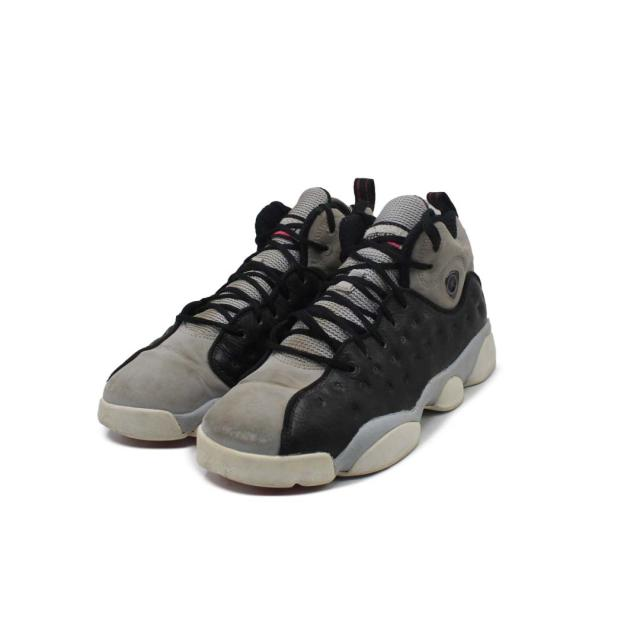midsole: (193, 315, 499, 490), (96, 399, 196, 447)
uppersole: (198, 193, 492, 460), (103, 189, 335, 415)
